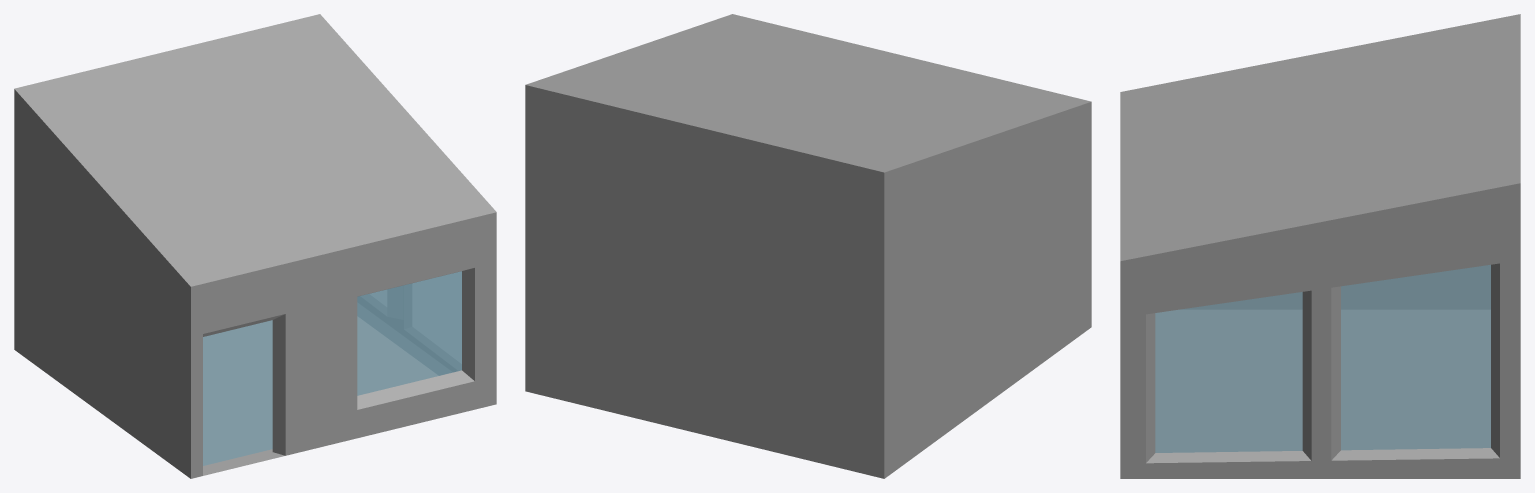
File: Store1.fbx
3 views of the same model, side by side, from view 1: azimuth 30°, elevation 25°; view 2: azimuth 150°, elevation 25°; view 3: azimuth 270°, elevation 25° (orthographic). The views are drawn at different scales.
Visible parts, largest first — view 1: pCube12, pPlane6, pPlane7; view 2: pCube12; view 3: pCube12, pPlane7.
Part boxes in pixels (<box>): pCube12: <box>14,14,496,478</box>; pPlane6: <box>203,271,461,465</box>; pPlane7: <box>358,272,461,375</box>; pCube12: <box>525,14,1091,478</box>; pCube12: <box>1120,14,1520,478</box>; pPlane7: <box>1155,264,1490,452</box>.
Bounding box in the file's own units: 50 × 40.8 × 50.
